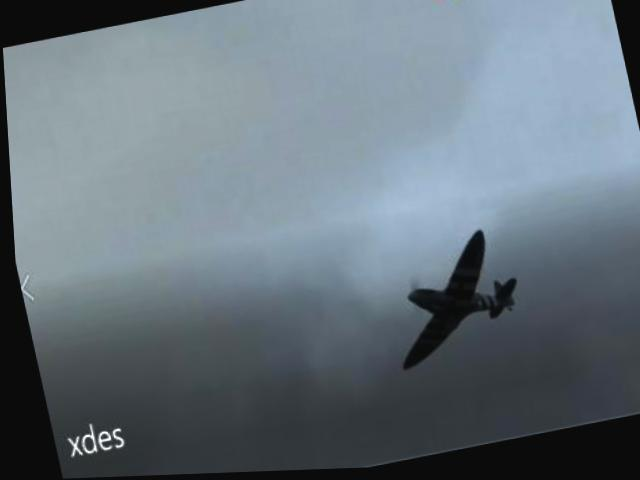uav: (370, 229, 527, 374)
